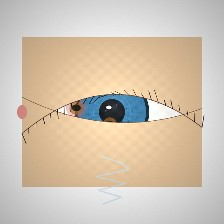foreign_body_visible: (88, 107, 132, 142)
